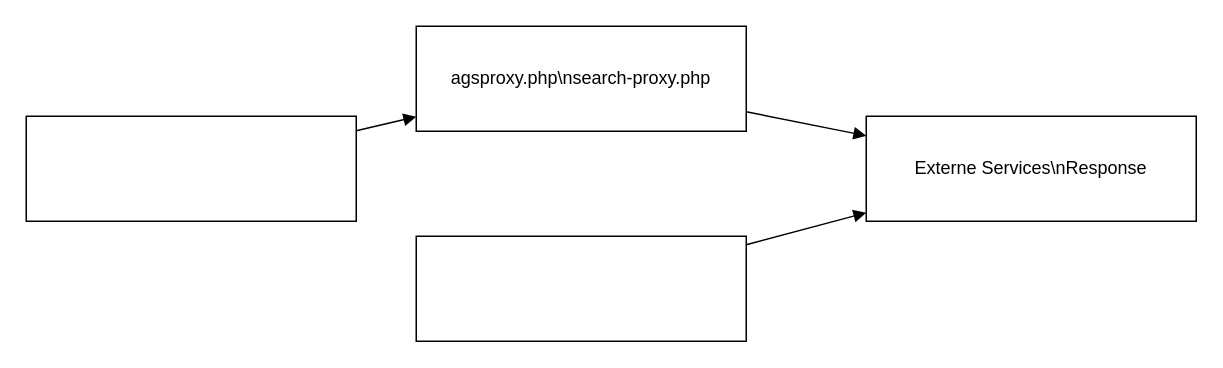
This 1223x368 diagram has some shape labels left out. Each missing label, with the centre of its shape:
active-maps-proxy.php\nSpezialroute: (580,288)
Frontend Request\nTNET Module: (190,168)
